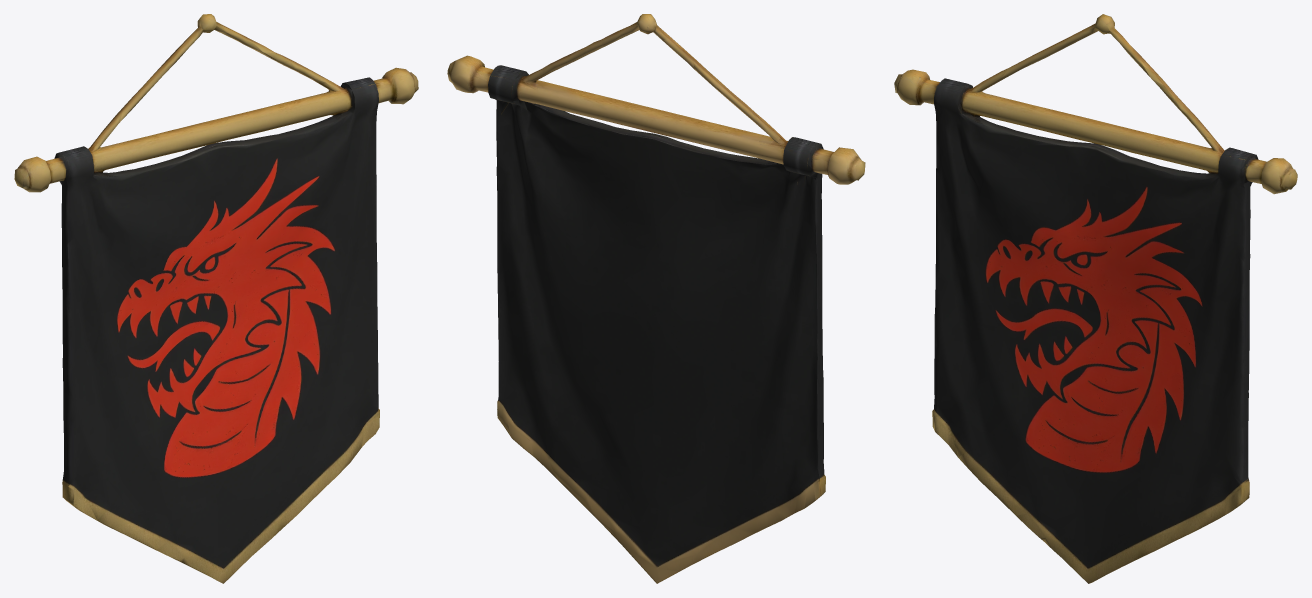
The model's file is obj_banner_evil.glb.
The picture shows the model from 3 angles, left to right: view 1: azimuth 30°, elevation 25°; view 2: azimuth 150°, elevation 25°; view 3: azimuth 330°, elevation 25°; orthographic projection. The views are drawn at different scales.
Visible parts, largest first — view 1: Mesh_0.001; view 2: Mesh_0.001; view 3: Mesh_0.001.
Part boxes in pixels (x1=…): Mesh_0.001: x1=14, y1=14, x2=418, y2=583; Mesh_0.001: x1=447, y1=14, x2=865, y2=583; Mesh_0.001: x1=894, y1=14, x2=1297, y2=583.
Bounding box in the file's own units: 1.51 × 2 × 0.1591.
Materials: 1 (1 with a texture image).
